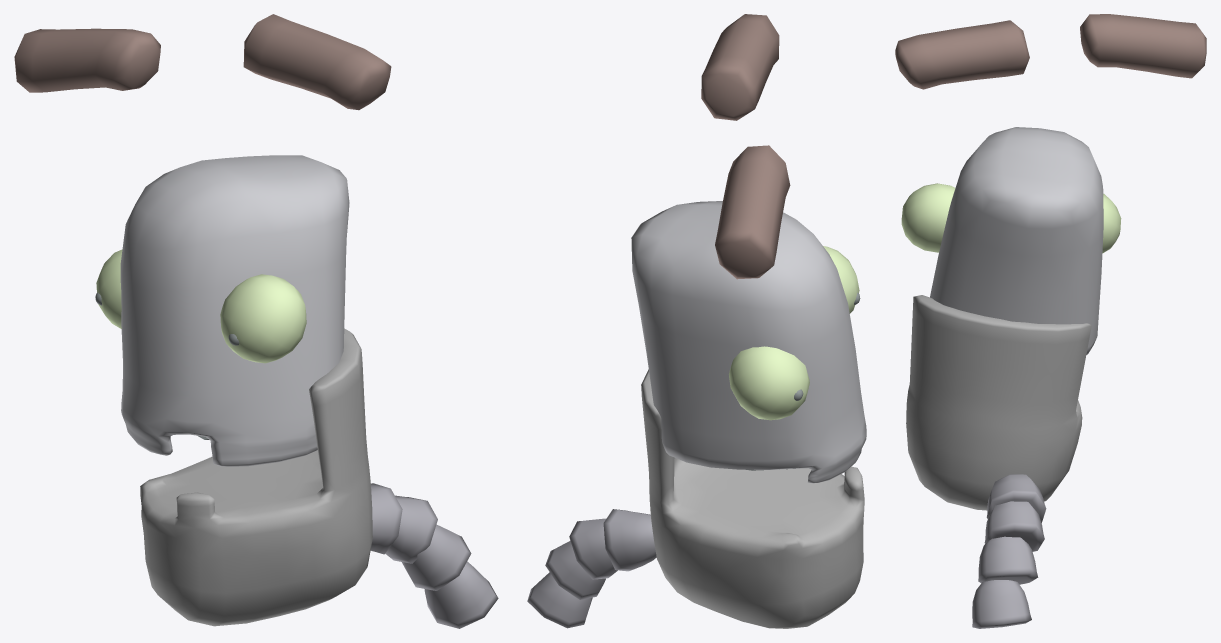
File: robot2.glb
The picture shows the model from 3 angles, left to right: view 1: azimuth 30°, elevation 25°; view 2: azimuth 150°, elevation 25°; view 3: azimuth 270°, elevation 25°; orthographic projection. The views are drawn at different scales.
Visible parts, largest first — view 1: robot2; view 2: robot2; view 3: robot2.
Boxes of the visible parts, left/top/right/bottom form: robot2: left=14, top=14, right=498, bottom=628; robot2: left=527, top=14, right=866, bottom=628; robot2: left=895, top=14, right=1206, bottom=628.
Bounding box in the file's own units: 1 × 1.68 × 0.8874.
